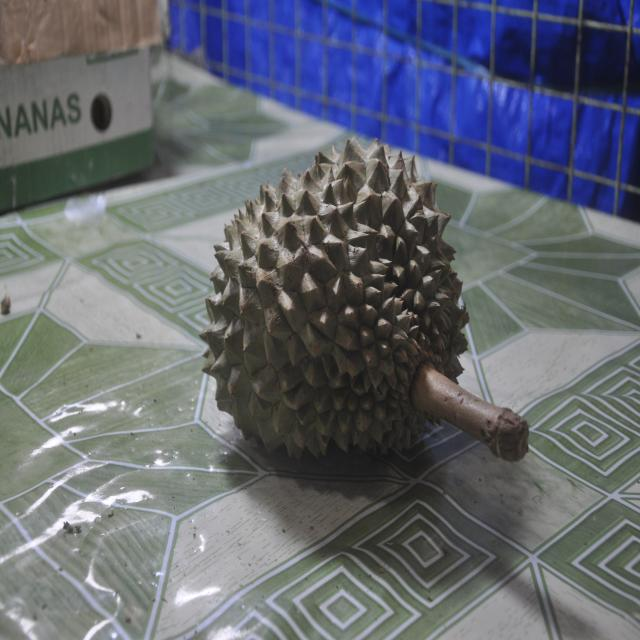mature: (201, 138, 528, 479)
